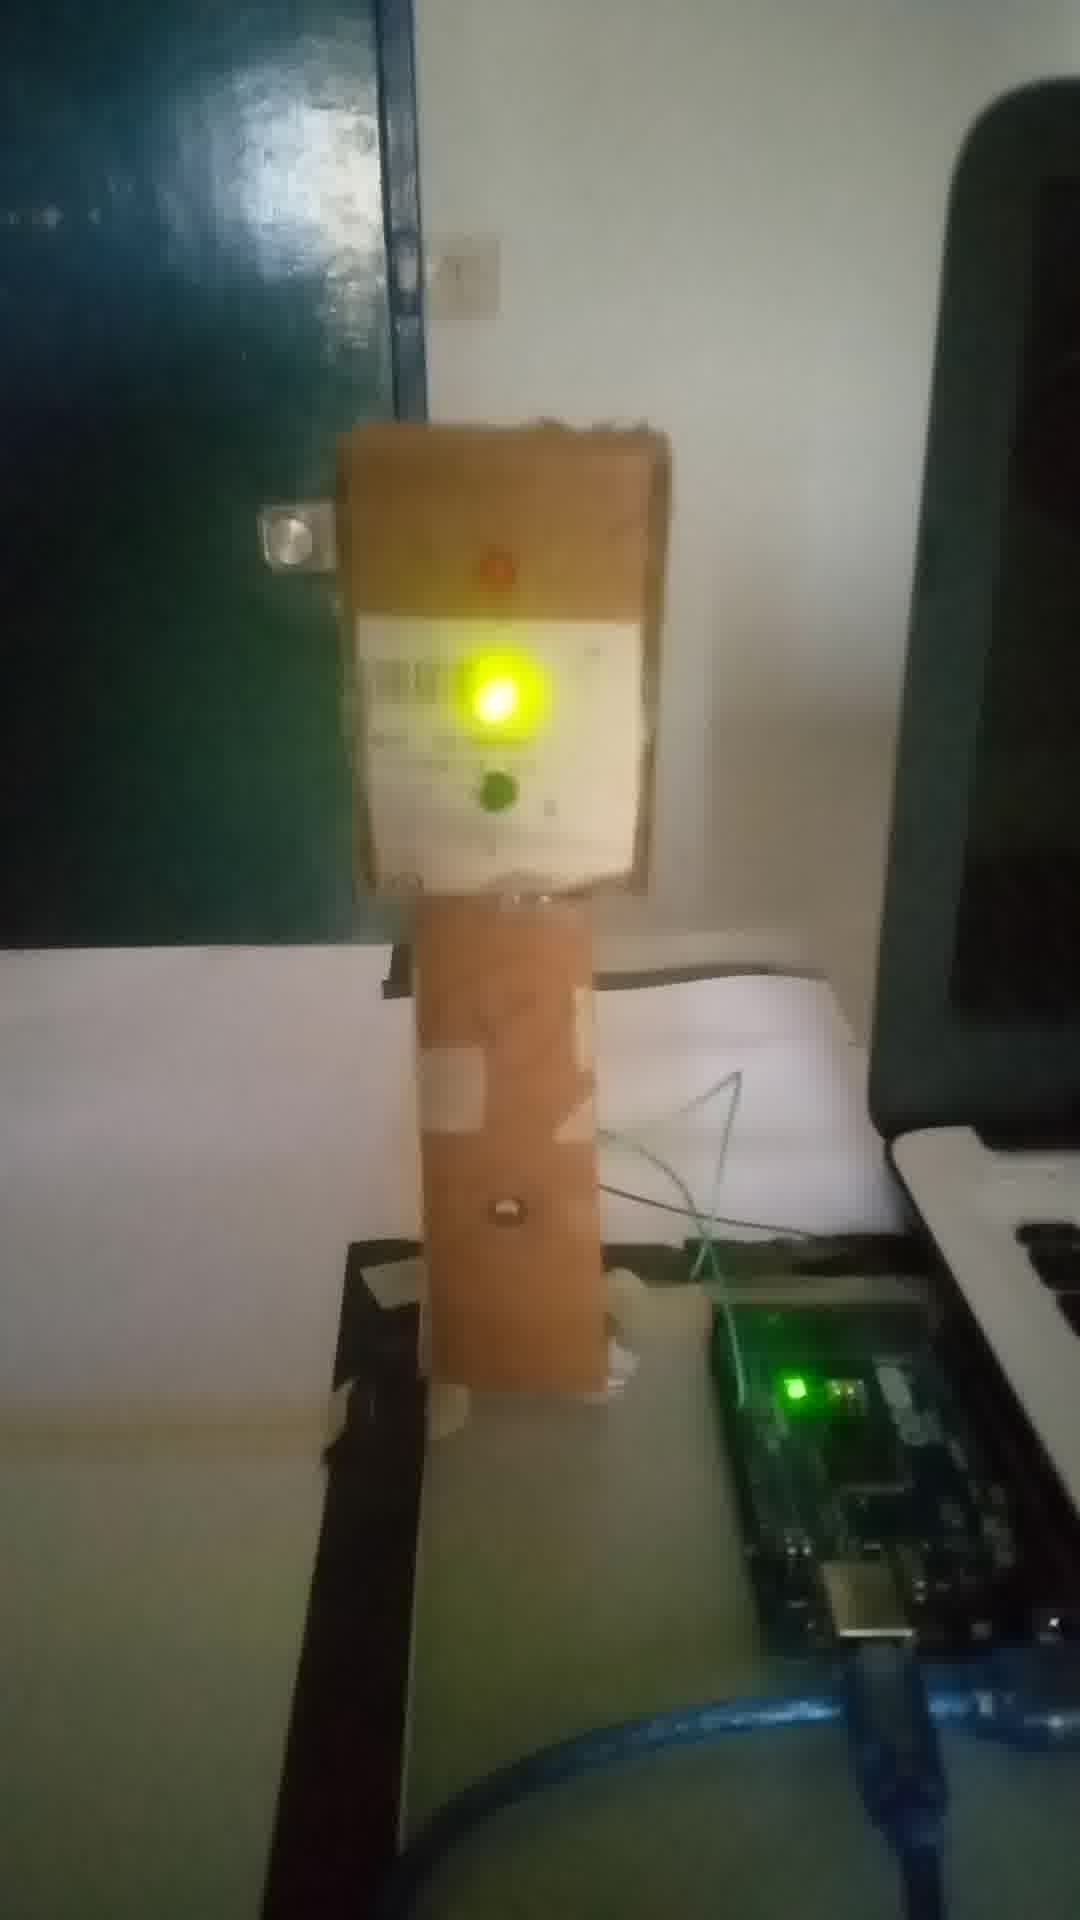yellow: (342, 448, 655, 899)
